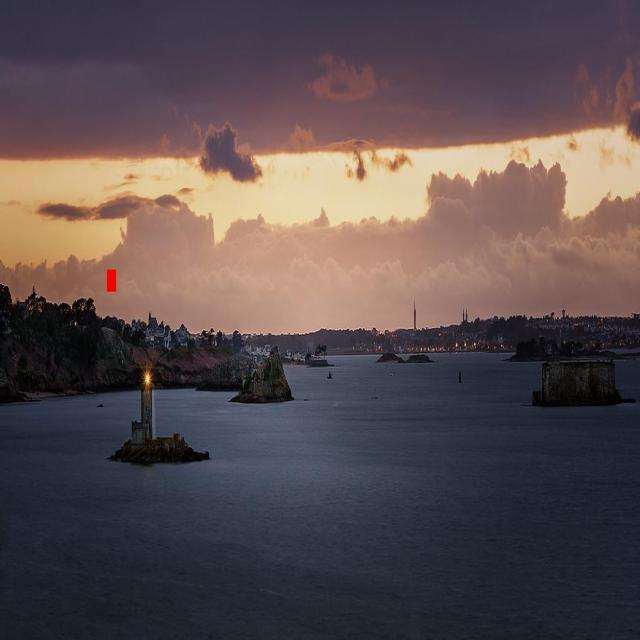RedSquare: (105, 266, 118, 301)
